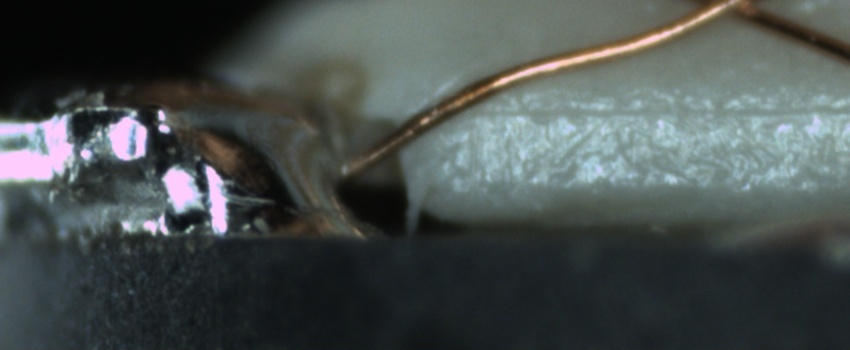CL: (677, 0, 776, 29)
DL: (462, 77, 850, 146)
